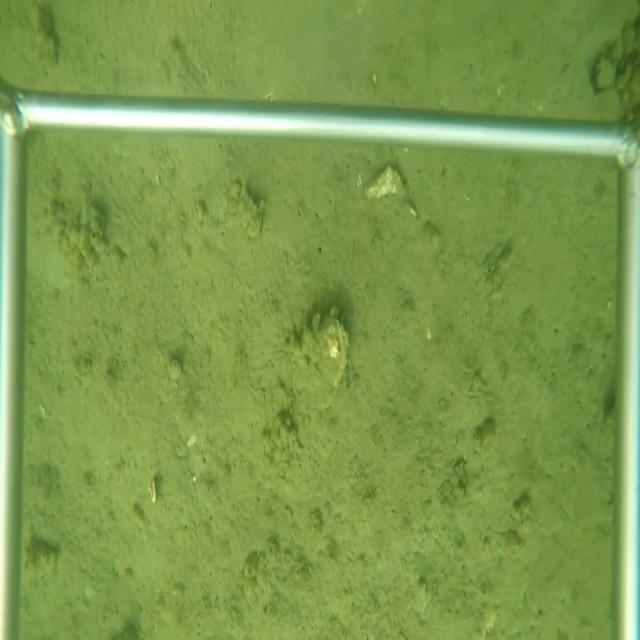Oyster-Indeterminate: (288, 313, 353, 419)
